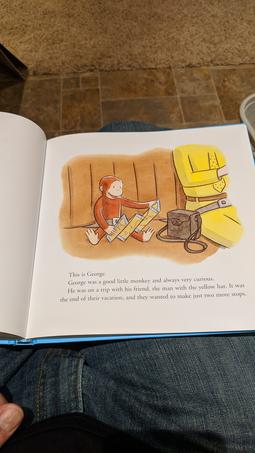text block: (55, 265, 253, 306)
